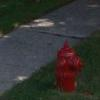Hydrant: (40, 28, 94, 100)
